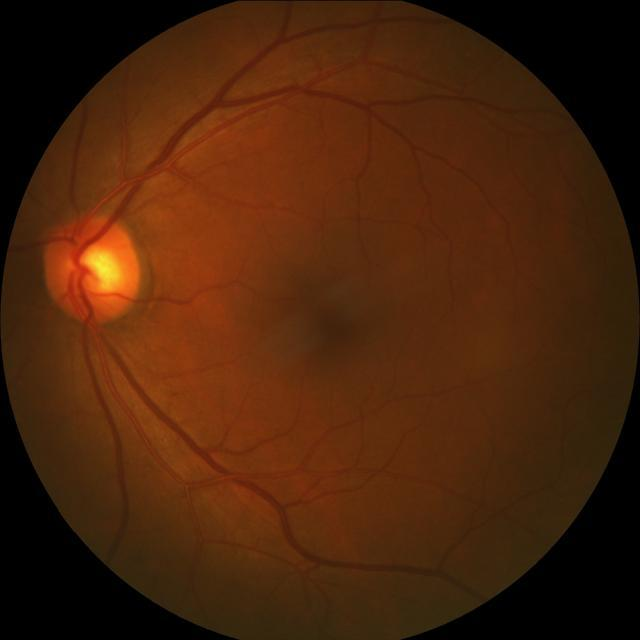OC: (77, 248, 121, 292)
OD: (44, 213, 144, 325)
